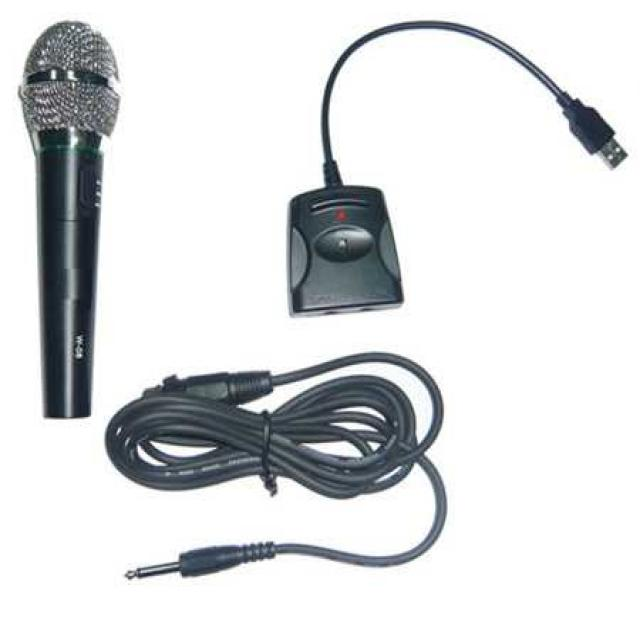microphone: (20, 21, 142, 422)
